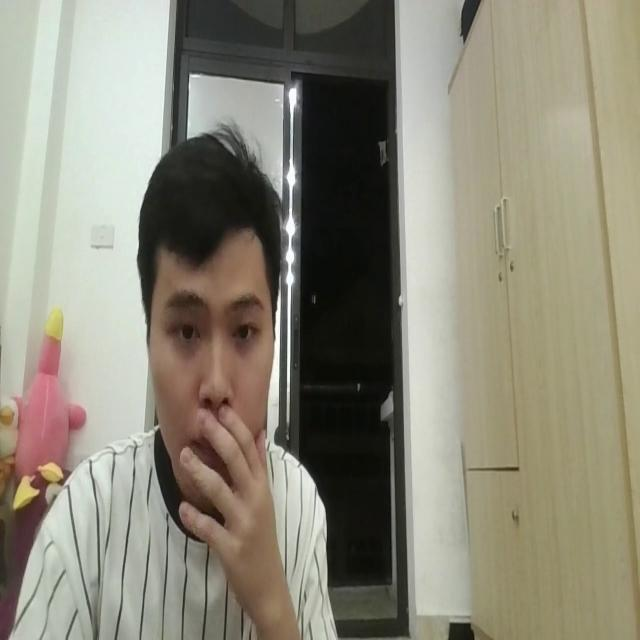student: (0, 122, 338, 640)
